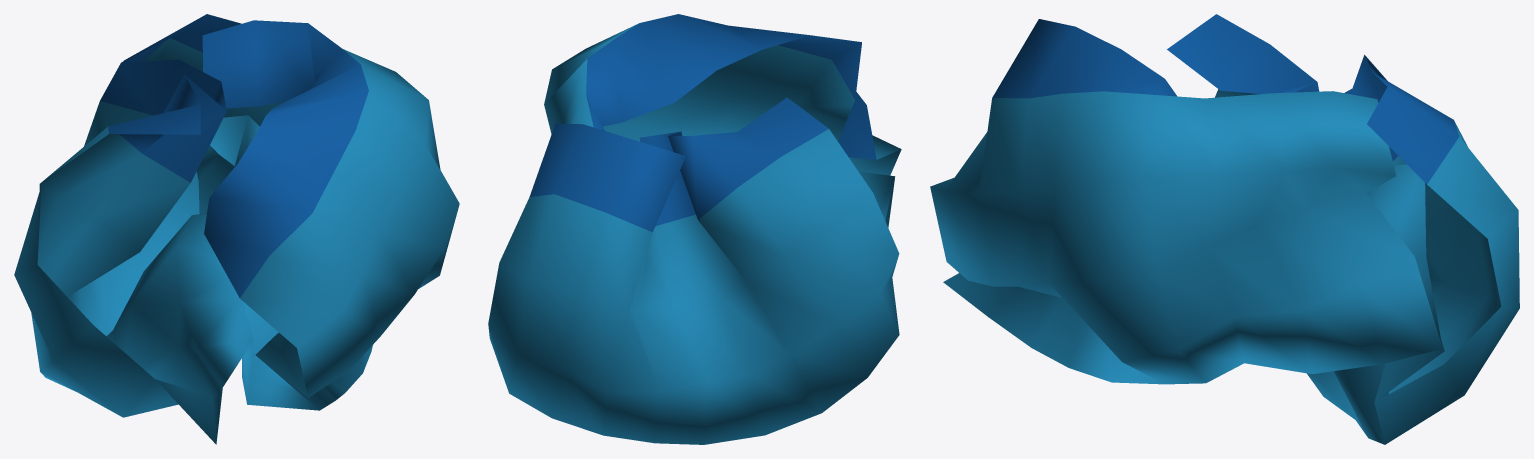
Rendered from furnishings-trash-candywrapper_v8.glb.
3 views of the same model, side by side, from view 1: azimuth 30°, elevation 25°; view 2: azimuth 150°, elevation 25°; view 3: azimuth 270°, elevation 25° (orthographic). The views are drawn at different scales.
Visible parts, largest first — view 1: CandyWrapper_v8; view 2: CandyWrapper_v8; view 3: CandyWrapper_v8.
Part boxes in pixels (x1,y1,x2,y2): CandyWrapper_v8: [14, 14, 459, 444]; CandyWrapper_v8: [488, 14, 901, 444]; CandyWrapper_v8: [930, 14, 1519, 444].
Bounding box in the file's own units: 0.0385 × 0.0325 × 0.0479.
